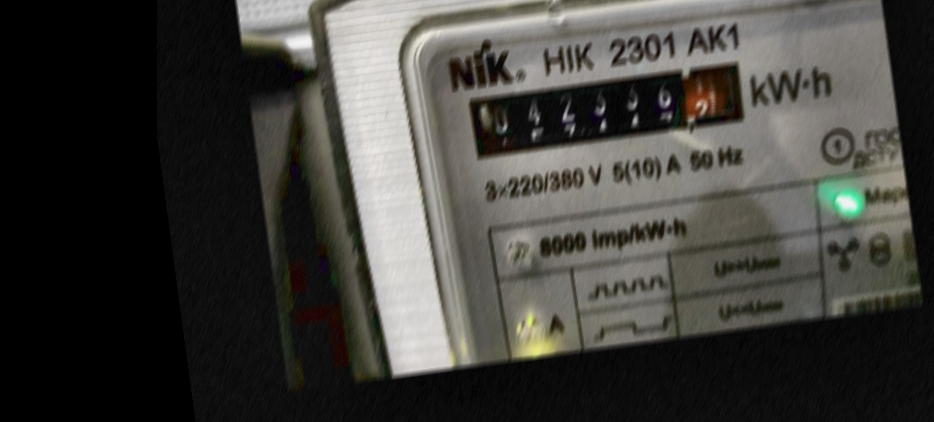0: (490, 104, 510, 133)
1: (691, 71, 706, 94)
2: (557, 90, 577, 121), (692, 96, 710, 116)
3: (620, 79, 640, 111), (589, 85, 607, 115)
4: (523, 94, 544, 125)
6: (654, 76, 675, 108)
screen: (456, 48, 760, 167)
